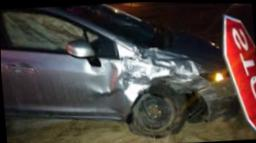Bumper: (196, 81, 238, 126)
Door: (70, 60, 126, 121)
Fender: (120, 51, 212, 121)
